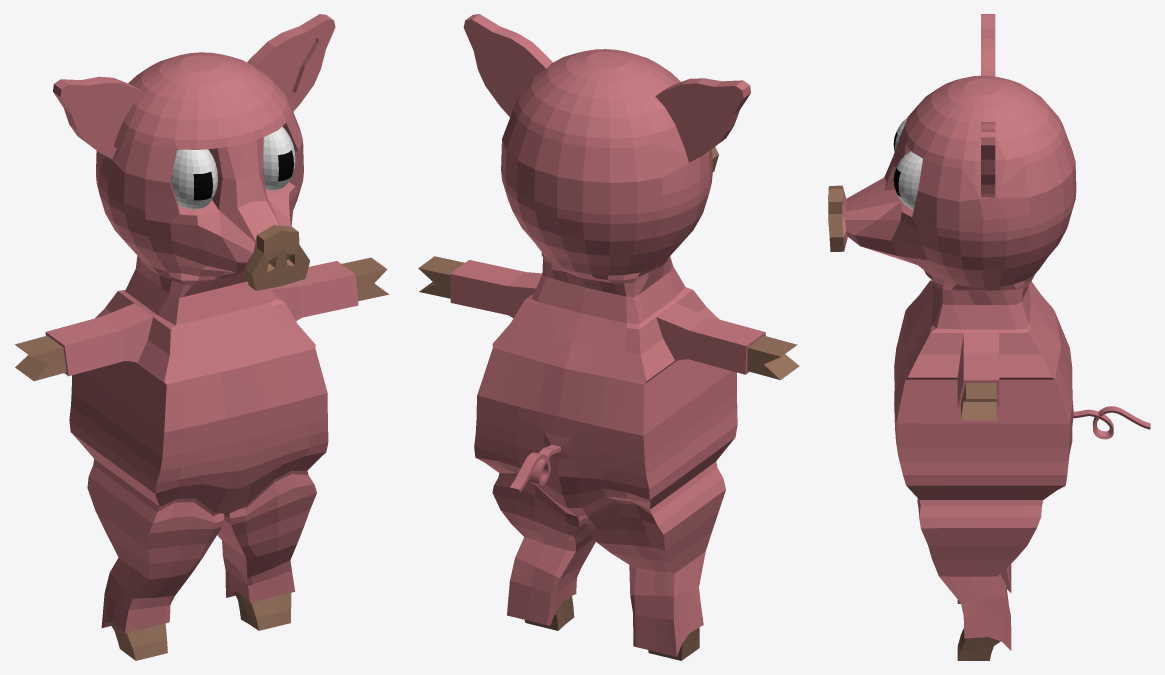
The model's file is Runt Pig Player PH.fbx.
3 views of the same model, side by side, from view 1: azimuth 30°, elevation 25°; view 2: azimuth 150°, elevation 25°; view 3: azimuth 270°, elevation 25° (orthographic). The views are drawn at different scales.
Visible parts, largest first — view 1: Head; view 2: Head; view 3: Head.
Part boxes in pixels (<box>): Head: <box>14,14,389,660</box>; Head: <box>418,14,799,660</box>; Head: <box>828,14,1150,660</box>.
Size of the model in its own units: 33.84 by 52.84 by 27.98.
